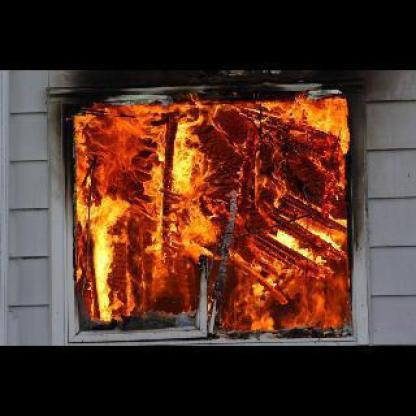fire: (72, 92, 354, 333)
